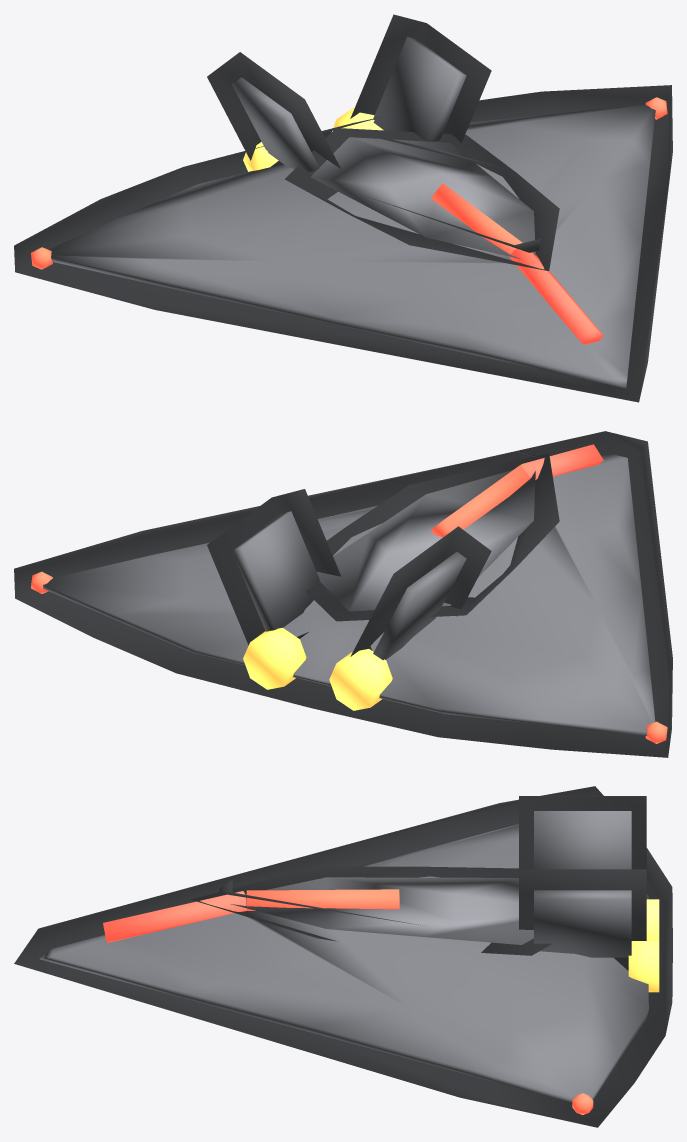
Rendered from stealth_jet.glb.
3 views of the same model, one above another, from view 1: azimuth 30°, elevation 25°; view 2: azimuth 150°, elevation 25°; view 3: azimuth 270°, elevation 25° (orthographic).
Visible parts, largest first — view 1: M_Body, M_Body_Outline; view 2: M_Body, M_Body_Outline; view 3: M_Body, M_Body_Outline.
Boxes of the visible parts, <box> form: M_Body: <box>31,37,667,388</box>; M_Body_Outline: <box>14,14,672,402</box>; M_Body: <box>31,444,667,743</box>; M_Body_Outline: <box>14,431,672,757</box>; M_Body: <box>39,811,659,1114</box>; M_Body_Outline: <box>14,786,672,1127</box>.
Bounding box in the file's own units: 1.22 × 0.3161 × 1.08.
